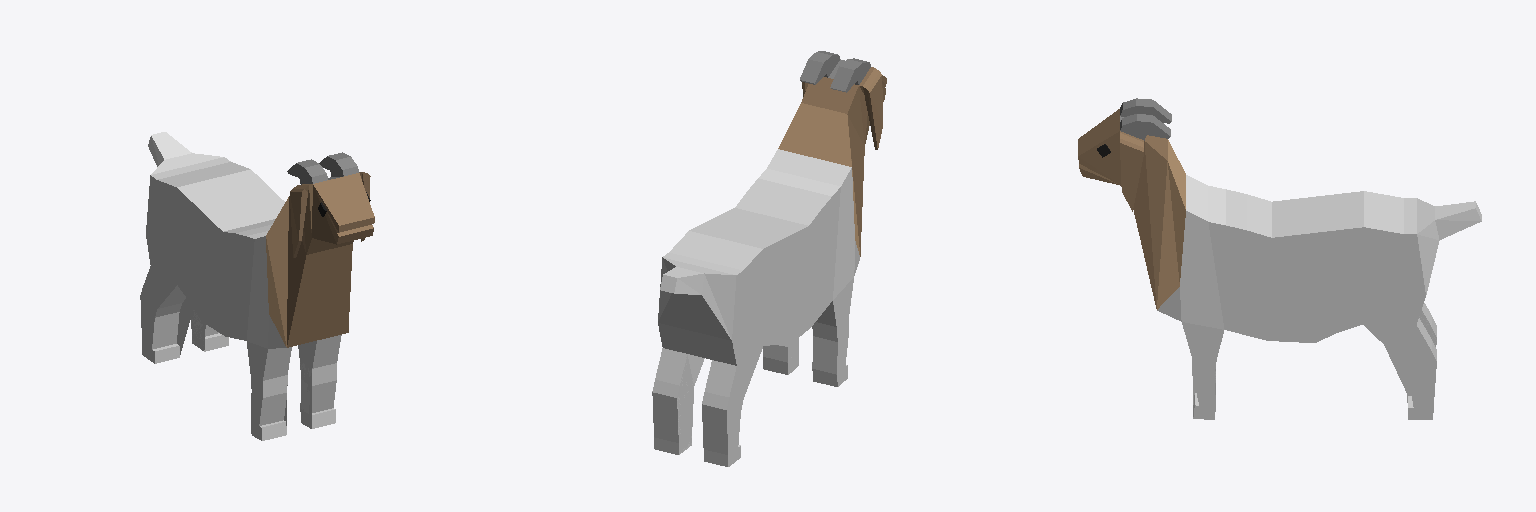
3 renders of one model, left to right at view 1: azimuth 30°, elevation 25°; view 2: azimuth 150°, elevation 25°; view 3: azimuth 270°, elevation 25°, orthographic.
Parts seen in each view (by area): view 1: Cube; view 2: Cube; view 3: Cube.
Part boxes in pixels (x1,y1,x2,y2): Cube: (140,132,374,440); Cube: (652,51,886,466); Cube: (1078,98,1481,419).
Bounding box in the file's own units: 0.5 × 1.88 × 2.35.
Materials: 1 (1 with a texture image).